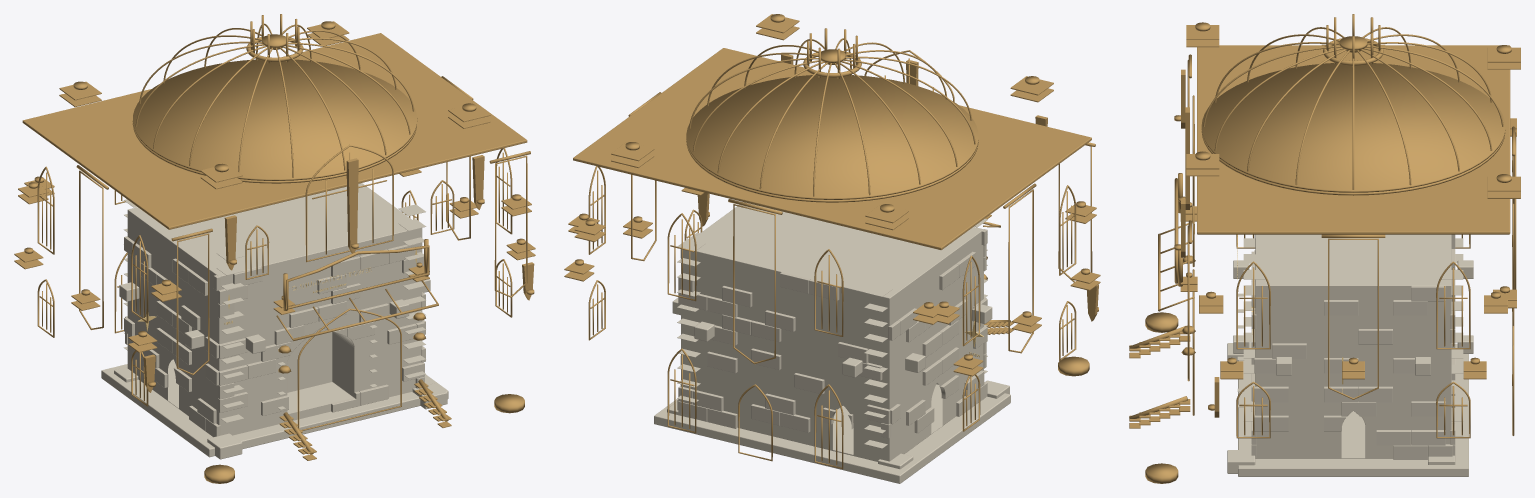
Rendered from Catalog-09.glb.
3 views of the same model, side by side, from view 1: azimuth 30°, elevation 25°; view 2: azimuth 150°, elevation 25°; view 3: azimuth 270°, elevation 25° (orthographic). The views are drawn at different scales.
Parts seen in each view (by area): view 1: Aged Gold, Ivory Limestone, Limestone Block Tone 2 (×2); view 2: Aged Gold, Ivory Limestone, Limestone Block Tone 2 (×2); view 3: Aged Gold, Ivory Limestone, Limestone Block Tone 2 (×2).
Part boxes in pixels (x1,y1,x2,y2): Aged Gold: [14, 14, 535, 483]; Ivory Limestone: [101, 183, 448, 459]; Limestone Block Tone 2 (×2): [124, 236, 425, 437]; Aged Gold: [564, 14, 1100, 469]; Ivory Limestone: [654, 202, 1010, 483]; Limestone Block Tone 2 (×2): [677, 229, 987, 438]; Aged Gold: [1129, 14, 1520, 483]; Ivory Limestone: [1227, 234, 1473, 476]; Limestone Block Tone 2 (×2): [1251, 234, 1455, 459].
Bounding box in the file's own units: 19.72 × 17.3 × 15.78.
